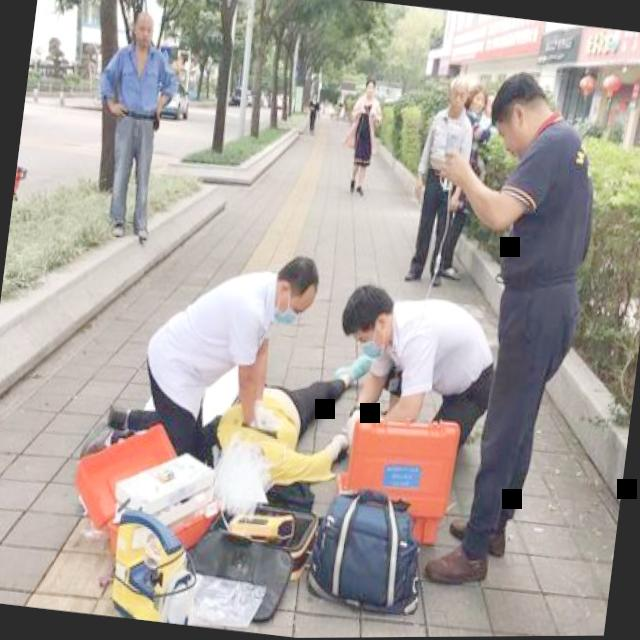Fall-Detected: (178, 330, 383, 532)
